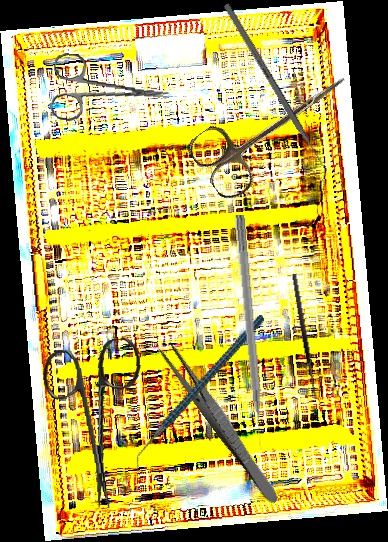Chopper: (99, 314, 300, 473)
Dressing Forceps: (155, 338, 285, 507)
Hook Surgical: (290, 272, 325, 400)
Iris Scissors: (183, 46, 364, 205), (40, 336, 155, 514), (48, 52, 173, 131)
Pusher: (223, 2, 331, 177), (232, 214, 266, 451)
